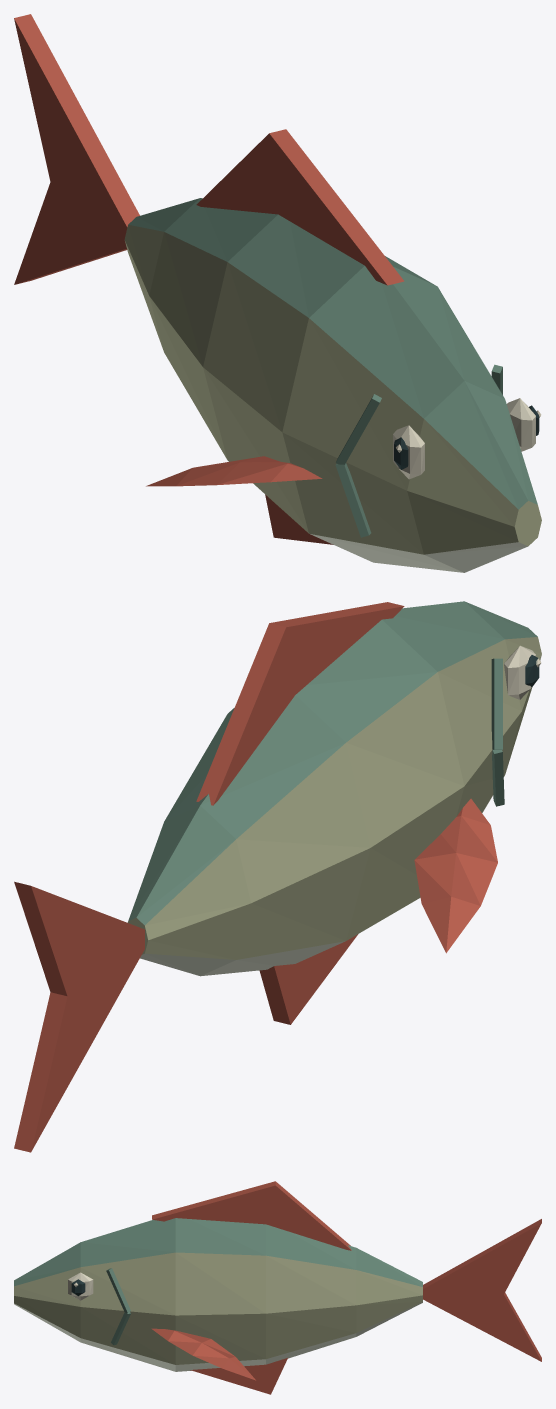
The model's file is fish_redtail.glb.
The picture shows the model from 3 angles, top to bottom: view 1: azimuth 30°, elevation 25°; view 2: azimuth 150°, elevation 25°; view 3: azimuth 270°, elevation 25°; orthographic projection. The views are drawn at different scales.
Parts seen in each view (by area): view 1: fish; view 2: fish; view 3: fish.
Part boxes in pixels (bbox=[...]): fish: bbox=[14, 14, 541, 572]; fish: bbox=[14, 601, 541, 1152]; fish: bbox=[14, 1181, 541, 1394].
Bounding box in the file's own units: 0.2511 × 0.3156 × 0.7215.
